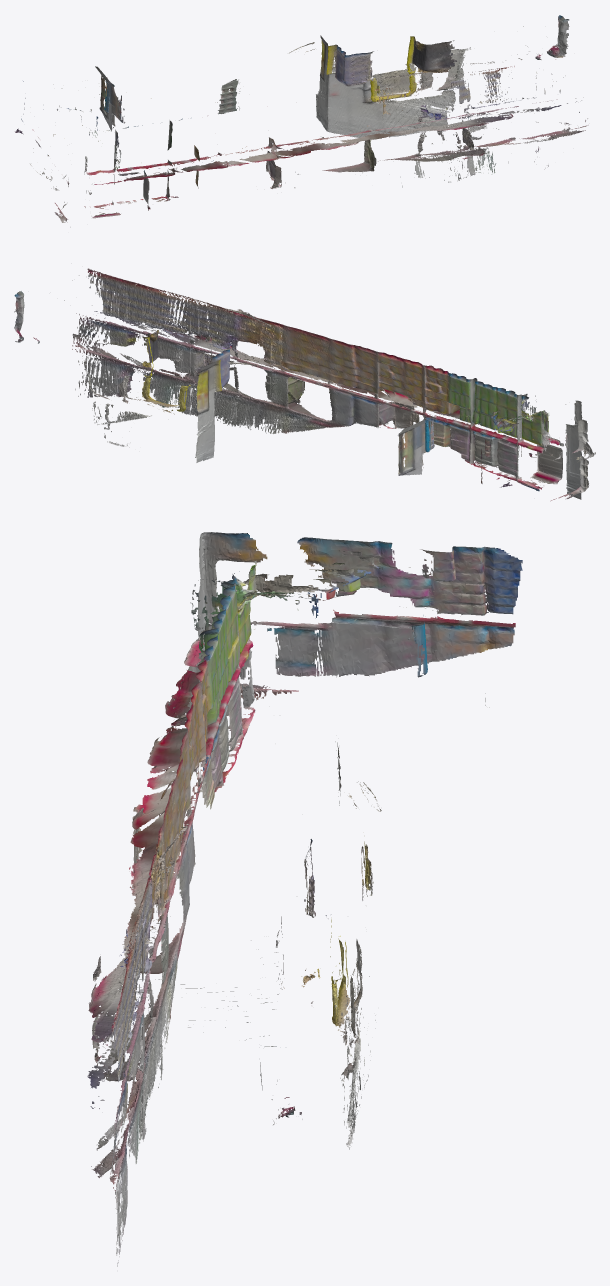
Rendered from room-0.glb.
The picture shows the model from 3 angles, top to bottom: view 1: azimuth 30°, elevation 25°; view 2: azimuth 150°, elevation 25°; view 3: azimuth 270°, elevation 25°; orthographic projection. The views are drawn at different scales.
Parts seen in each view (by area): view 1: geometry_0; view 2: geometry_0; view 3: geometry_0.
Part boxes in pixels (x1,y1,x2,y2): geometry_0: [15, 15, 588, 227]; geometry_0: [14, 268, 595, 501]; geometry_0: [87, 532, 522, 1266].
Size of the model in its own units: 31.68 by 7.74 by 11.31.
